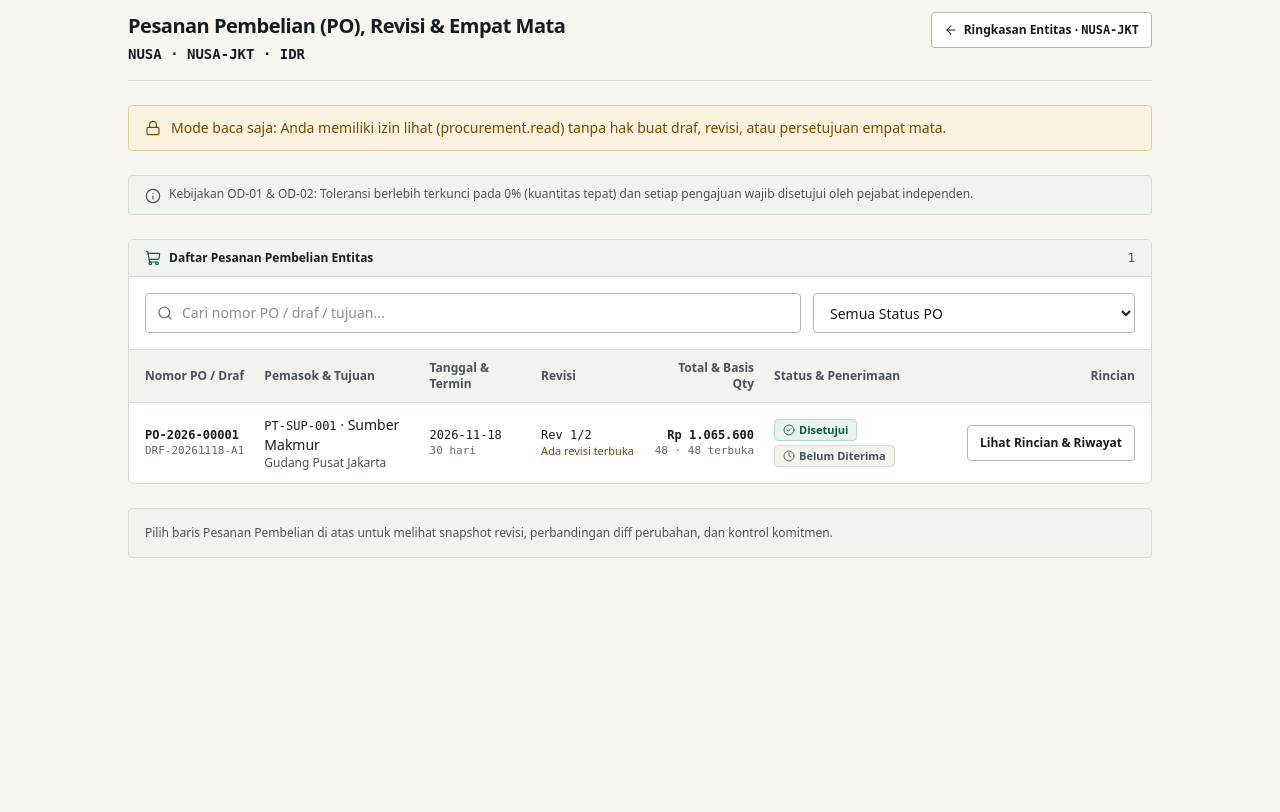
it: S05 Procurement & PO UI › hides editor tab and all approval/lifecycle controls for read-only procurement.read actors
Expected: the text "Mode baca saja" is shown, 171,118 -> 946,137
Click the button "Lihat Rincian & Riwayat" at (1051, 443), box 967,425 -> 1135,461
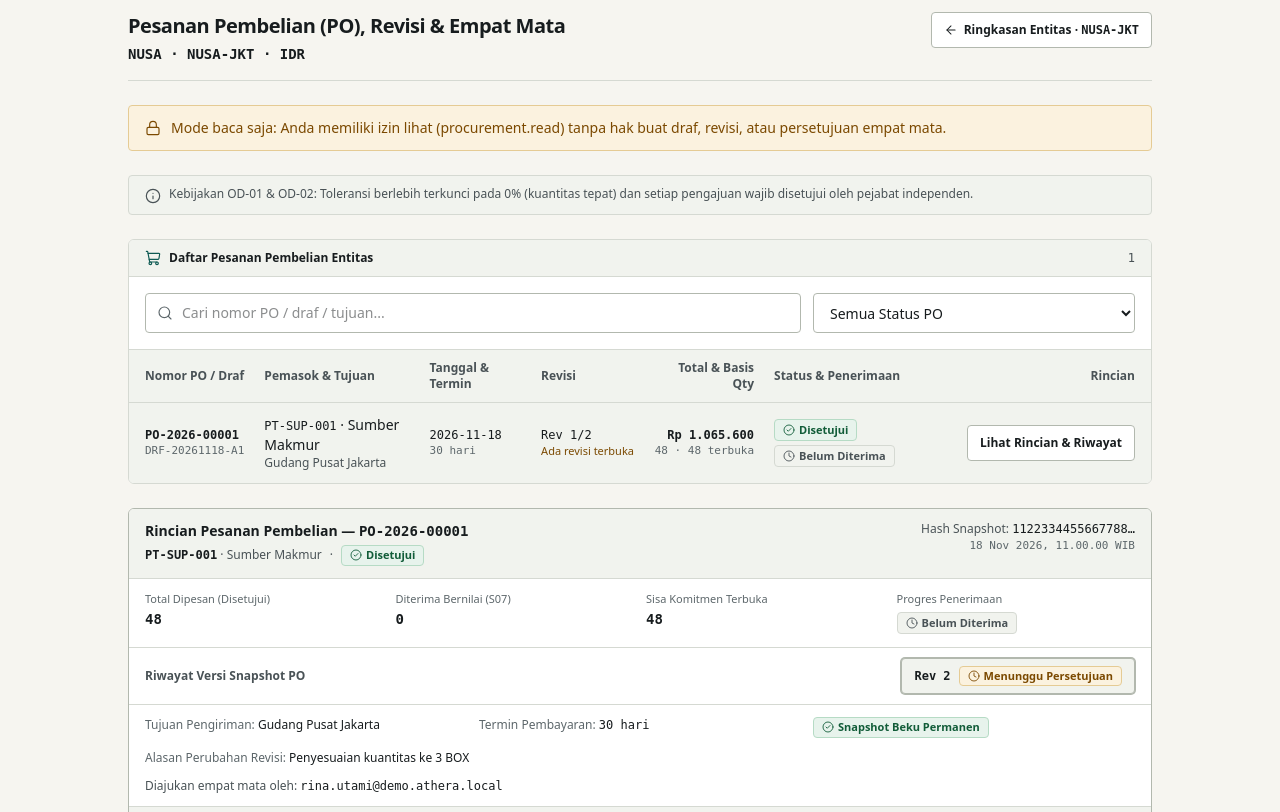
Expected: the text "1122334455667788…" is shown, 1012,522 -> 1135,536
